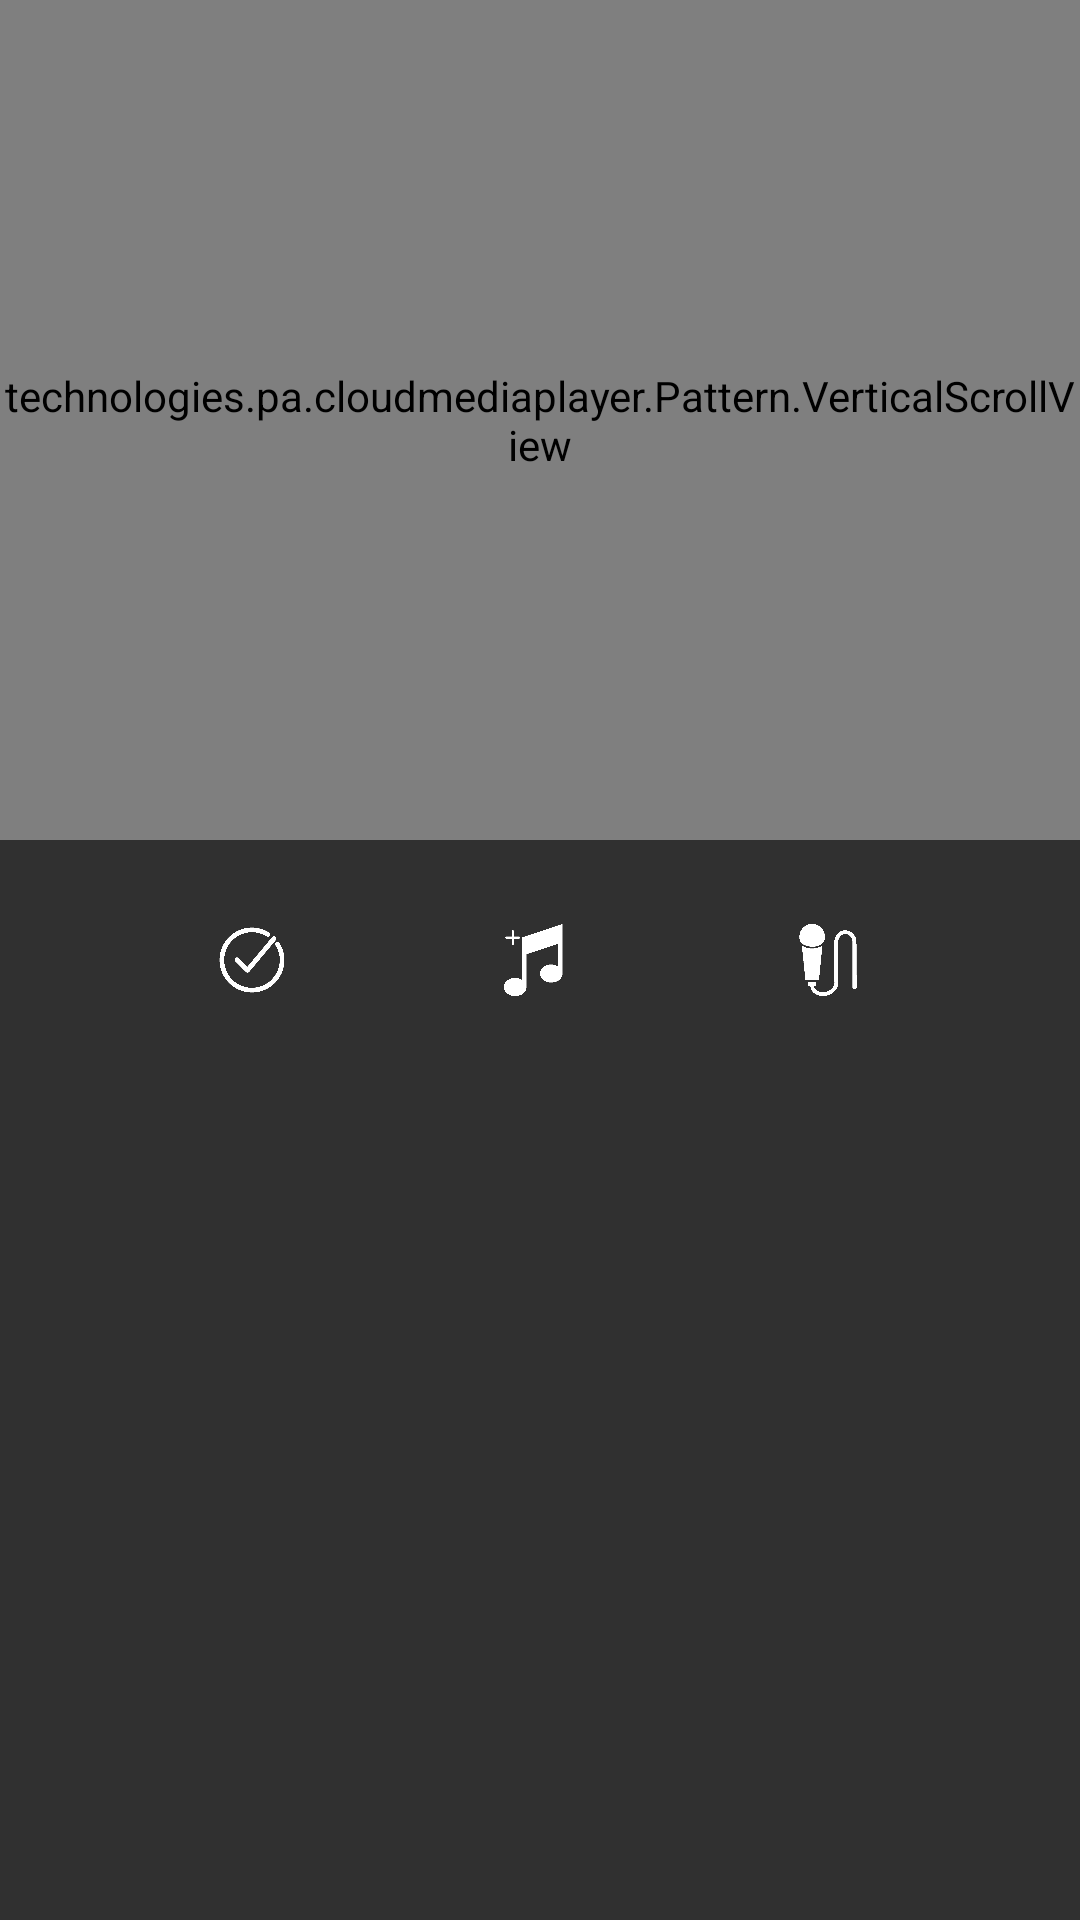

Where icons sit on this 1080 × 1920 app screen, as (x1, y1, x2, y2):
artist: (799, 924, 857, 996)
correct: (219, 927, 284, 993)
songplus: (504, 924, 563, 996)
